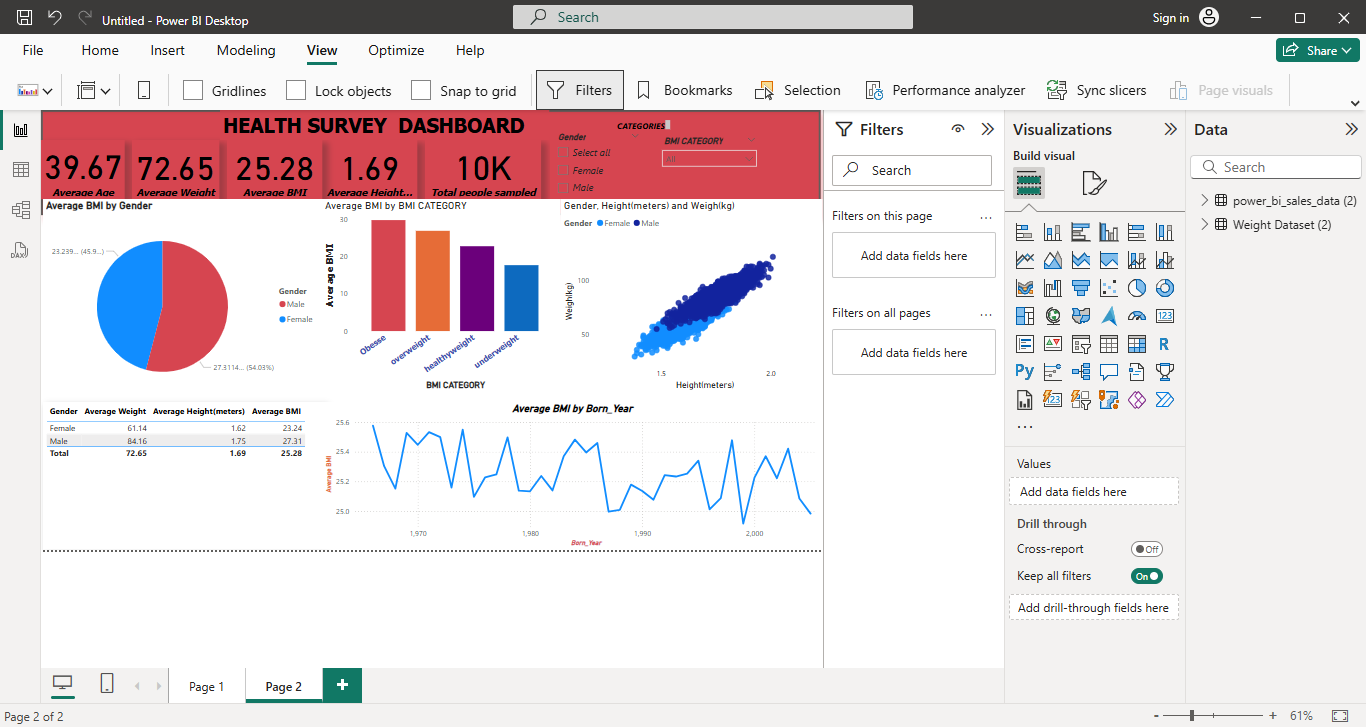

Layout of this report page (visuals, bound fields, positions):
{"tool":"powerbi","page":{"name":"Page 2","canvas":[1280,720],"ordinal":1},"visuals":[{"type":"actionButton","box":[0,0,1276,172],"z":0},{"type":"card","fields":{"Values":["Weight Dataset (2).Average Age"]},"box":[0,49.1,137.5,96.6],"z":1000},{"type":"card","fields":{"Values":["Weight Dataset (2).Average Height(meters)"]},"box":[460.3,48.7,156.2,97.4],"z":2000},{"type":"card","fields":{"Values":["Weight Dataset (2).Average Weight"]},"box":[149.5,48.7,142.8,97.4],"z":3000},{"type":"card","fields":{"Values":["Weight Dataset (2).Average BMI"]},"box":[304,48.7,156.2,97.4],"z":4000},{"type":"card","fields":{"Values":["Weight Dataset (2).Total people sampled"]},"box":[628.5,49.1,189.9,96.6],"z":5000},{"type":"textbox","box":[292.3,0,539.2,48.7],"z":6000},{"type":"slicer","fields":{"Values":["Weight Dataset (2).BMI CATEGORY"]},"box":[1006.2,37,174.7,107.5],"z":7000},{"type":"slicer","fields":{"Values":["Weight Dataset (2).Gender"]},"box":[833.2,31.9,157.9,114.2],"z":8000},{"type":"textbox","box":[0,237.5,150,150],"z":9000},{"type":"textbox","box":[937.3,11.8,97.4,25.2],"z":10000},{"type":"pieChart","fields":{"Category":["Weight Dataset (2).Gender"],"Y":["Weight Dataset (2).Average BMI"]},"box":[3.4,146.1,456.9,332.6],"z":11000},{"type":"clusteredColumnChart","fields":{"Y":["Weight Dataset (2).Average BMI"],"Category":["Weight Dataset (2).BMI CATEGORY"]},"box":[460.3,146.1,391.4,317.5],"z":12000},{"type":"scatterChart","fields":{"X":["Weight Dataset (2).Height(meters)"],"Y":["Weight Dataset (2).Weigh(kg)"],"Series":["Weight Dataset (2).Gender"]},"box":[851.7,146.1,428.3,317.5],"z":13000},{"type":"tableEx","fields":{"Values":["Weight Dataset (2).Gender","Weight Dataset (2).Average Weight","Weight Dataset (2).Average Height(meters)","Weight Dataset (2).Average BMI"]},"box":[3.4,478.7,456.9,241.9],"z":14000},{"type":"lineChart","fields":{"Category":["Weight Dataset (2).Born_Year"],"Y":["Weight Dataset (2).Average BMI"]},"box":[460.3,478.7,819.7,241.9],"z":15000}]}

Visuals, with their boxes on the page's 1280x720 design canvas (x1, y1, x2, y2). These are canvas units, not pixel positions in the 1366x727 screenshot, which may show the page scaled, cropped or inside an application window:
actionButton: 0:0:1276:172
card - Weight Dataset (2).Average Age: 0:49:138:146
card - Weight Dataset (2).Average Height(meters): 460:49:616:146
card - Weight Dataset (2).Average Weight: 150:49:292:146
card - Weight Dataset (2).Average BMI: 304:49:460:146
card - Weight Dataset (2).Total people sampled: 628:49:818:146
textbox: 292:0:832:49
slicer - Weight Dataset (2).BMI CATEGORY: 1006:37:1181:144
slicer - Weight Dataset (2).Gender: 833:32:991:146
textbox: 0:238:150:388
textbox: 937:12:1035:37
pieChart - Weight Dataset (2).Gender x Weight Dataset (2).Average BMI: 3:146:460:479
clusteredColumnChart - Weight Dataset (2).Average BMI x Weight Dataset (2).BMI CATEGORY: 460:146:852:464
scatterChart - Weight Dataset (2).Height(meters) x Weight Dataset (2).Weigh(kg): 852:146:1280:464
tableEx - Weight Dataset (2).Gender x Weight Dataset (2).Average Weight: 3:479:460:721
lineChart - Weight Dataset (2).Born_Year x Weight Dataset (2).Average BMI: 460:479:1280:721
